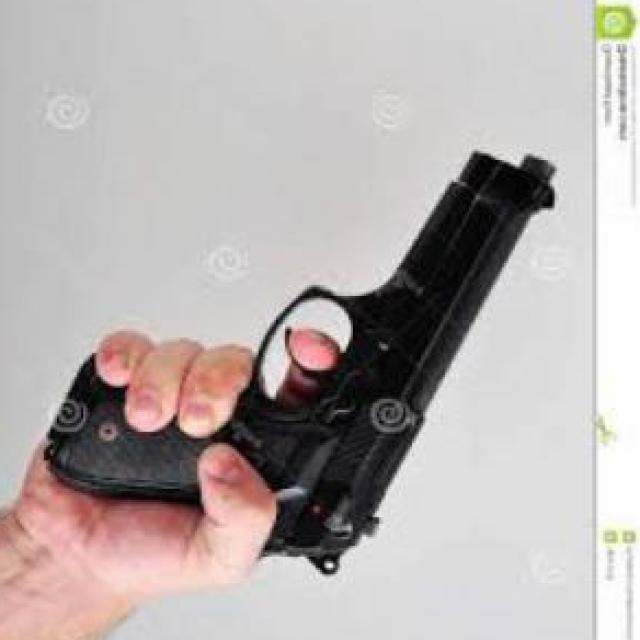pistol: (37, 146, 556, 574)
